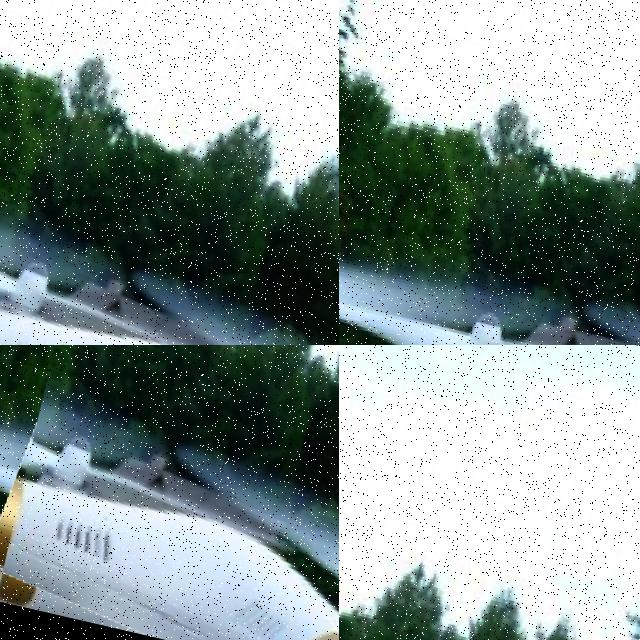drone: (0, 0, 339, 345), (0, 345, 339, 640)
